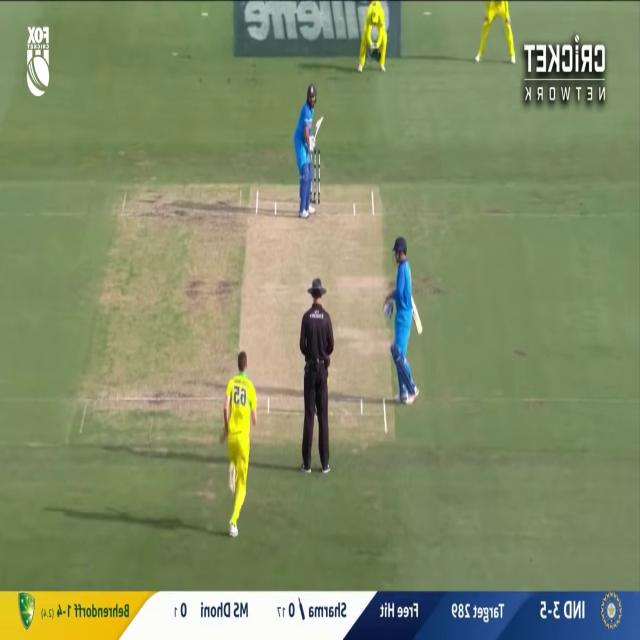stump: (310, 149, 320, 205)
